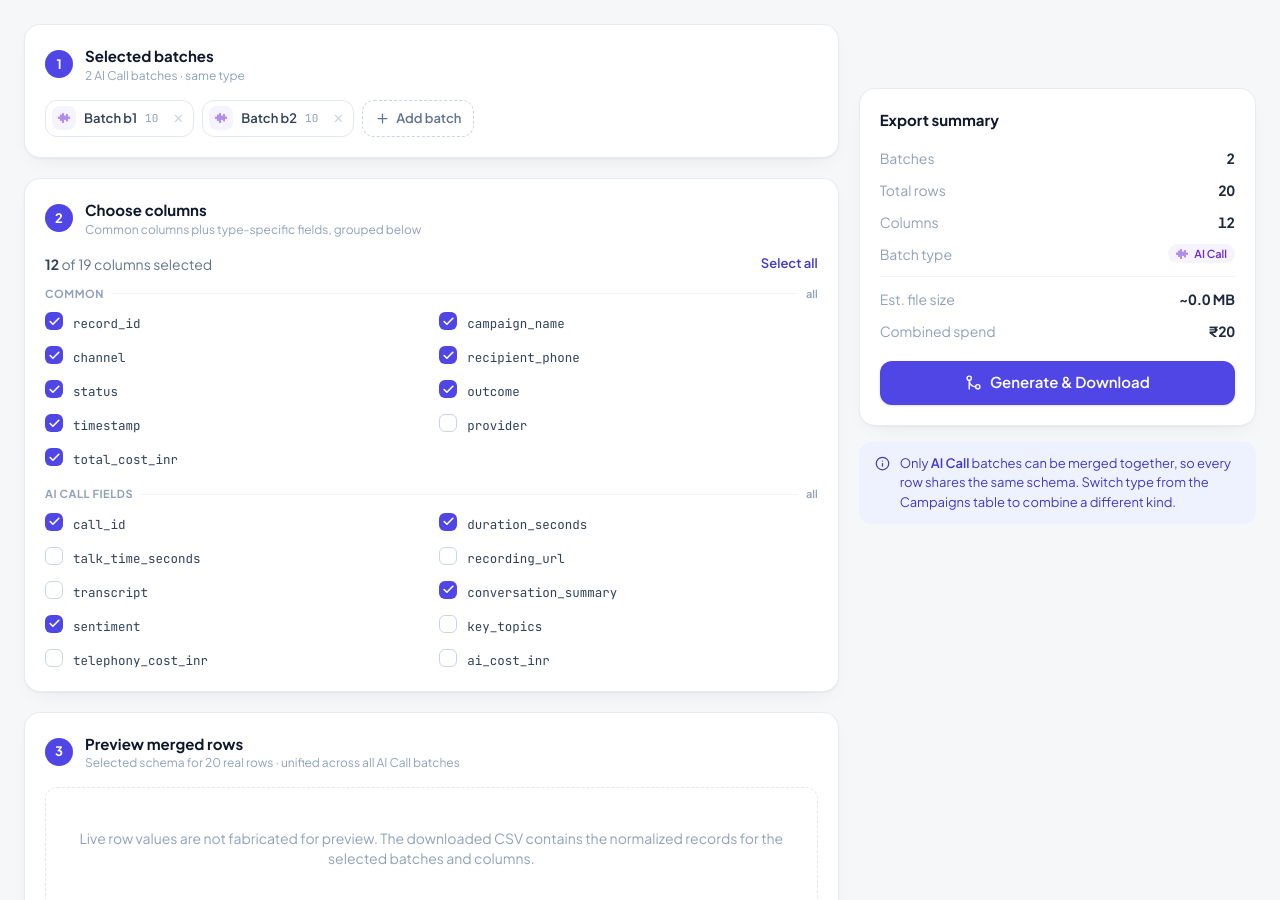
Test case: CombineScreen — completed download flow › warns when a selected batch's served revision is known short
Click the button "Generate & Download": (1057, 382) [880,360,1235,404]
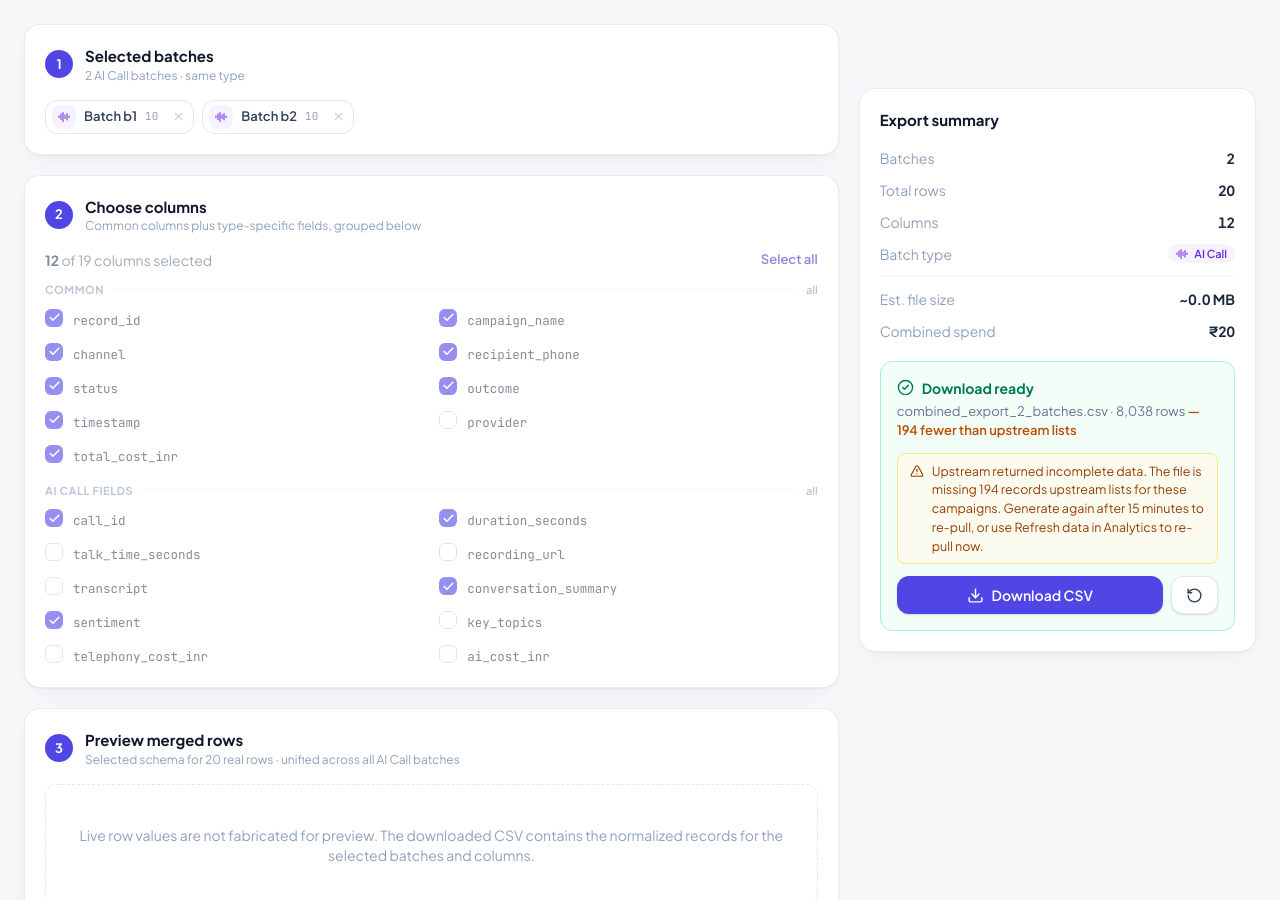
Result: the text "8,038 rows" is shown at [897,402,1218,440]
Result: the text "— 194 fewer than upstream lists" is shown at [897,402,1200,438]
Result: the message shows "Upstream returned incomplete data. The file is missing 194 records" at [897,452,1218,564]
